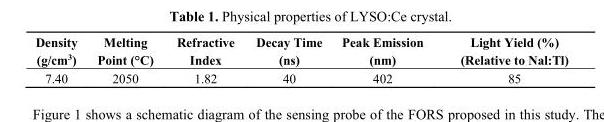table: (34, 34, 567, 85)
table column: (441, 34, 567, 85), (331, 34, 441, 85), (244, 34, 331, 85), (164, 34, 244, 85), (86, 34, 164, 85), (34, 34, 86, 85)
table column header: (34, 34, 567, 68)
table row: (34, 34, 567, 68), (34, 68, 567, 85)
